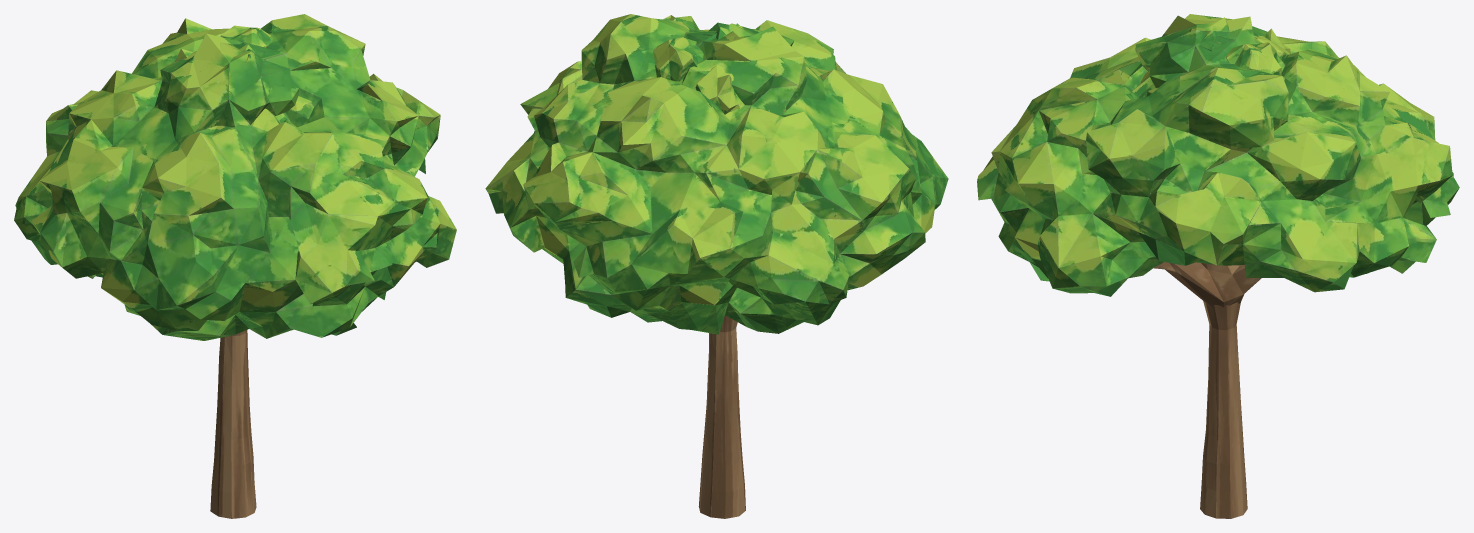
The model's file is tree_round_a.glb.
3 renders of one model, left to right at view 1: azimuth 30°, elevation 25°; view 2: azimuth 150°, elevation 25°; view 3: azimuth 270°, elevation 25°, orthographic. The views are drawn at different scales.
Parts seen in each view (by area): view 1: body; view 2: body; view 3: body.
Boxes of the visible parts, x1,y1,x2,y2 form: body: (14, 14, 456, 518); body: (485, 14, 948, 518); body: (977, 14, 1459, 518).
Size of the model in its own units: 4.69 by 5.51 by 4.97.
Materials: 2 (2 with a texture image).
